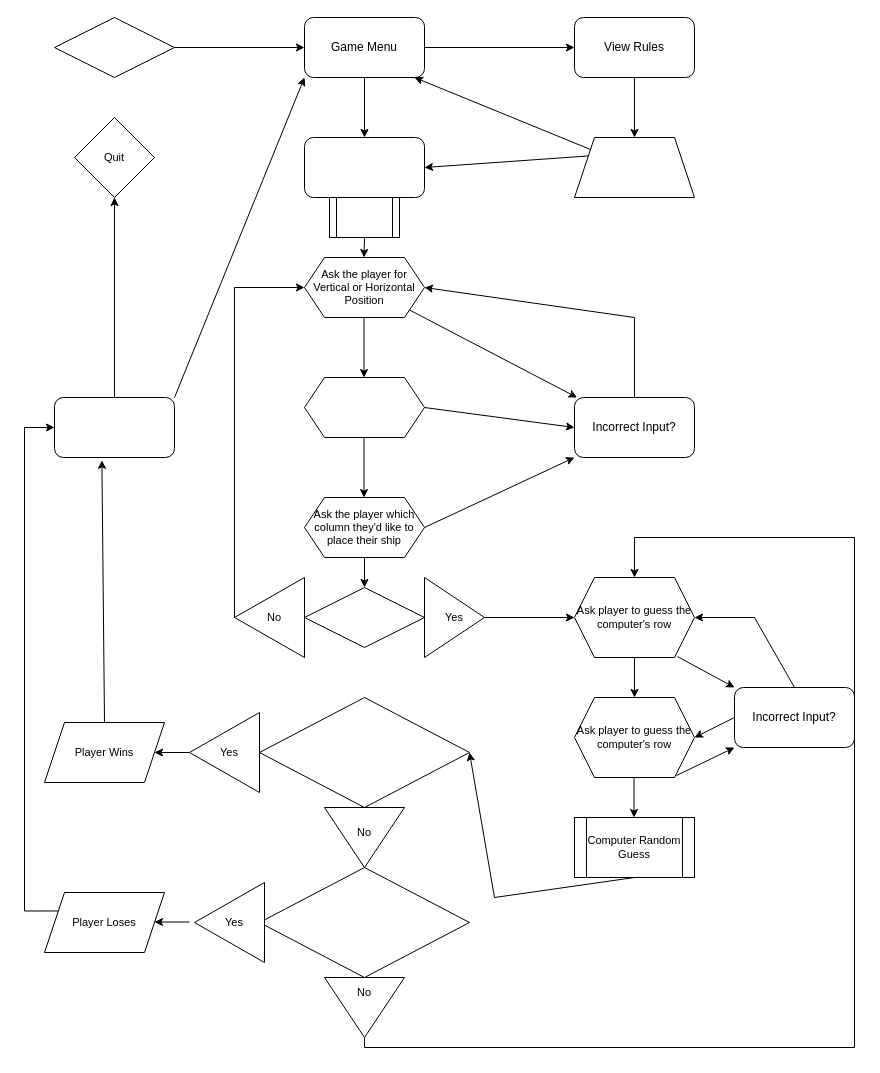
Image size: 880x1073. Some labels were removed from this diagram. The centre of each missing label's shape, as x and y in pixels:
All Ships Placed?: the point at 364,617
Ask the player which row they'd like to place their ship: the point at 364,407
Computer Place Ships: the point at 364,217
End Game Menu: the point at 114,427
Has the computer guessed all the ships?: the point at 364,922
Has the player guessed all the ships?: the point at 364,752
Rules Viewed: the point at 634,167
Start: the point at 114,47
Start Game: the point at 364,167
